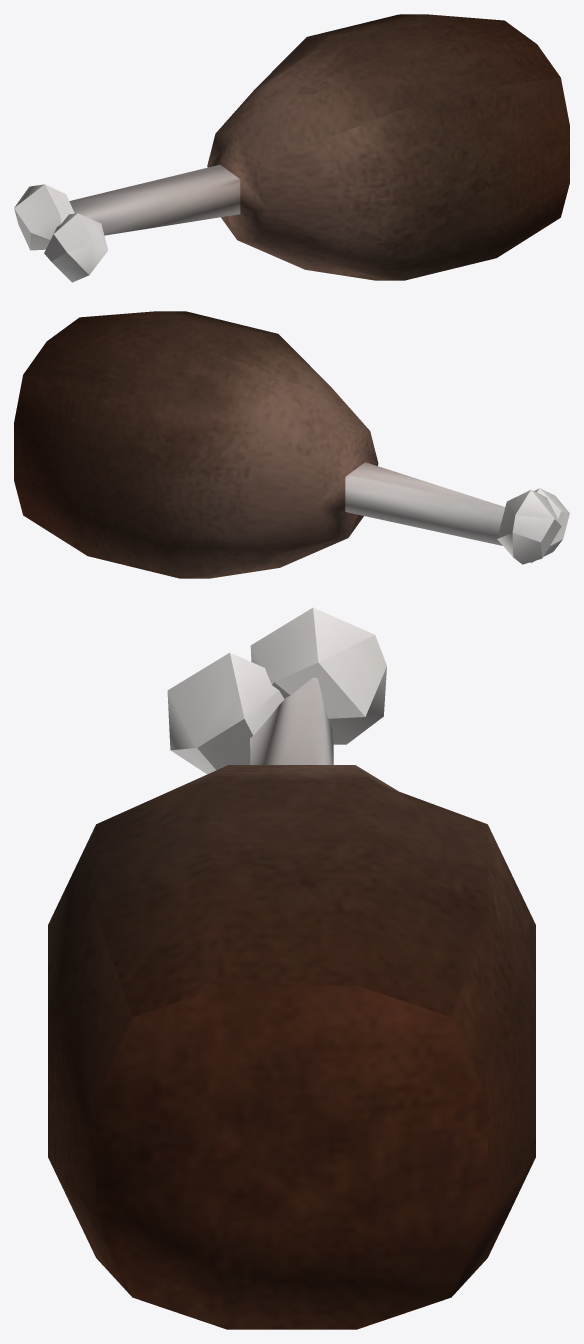
File: leg.fbx
The picture shows the model from 3 angles, top to bottom: view 1: azimuth 30°, elevation 25°; view 2: azimuth 150°, elevation 25°; view 3: azimuth 270°, elevation 25°; orthographic projection. The views are drawn at different scales.
Visible parts, largest first — view 1: pCube3; view 2: pCube3; view 3: pCube3.
Boxes of the visible parts, x1,y1,x2,y2 form: pCube3: (14,14,569,282); pCube3: (14,311,569,578); pCube3: (48,607,535,1329).
Size of the model in its own units: 105 by 42 by 43.35.
1 material, 1 textured.
